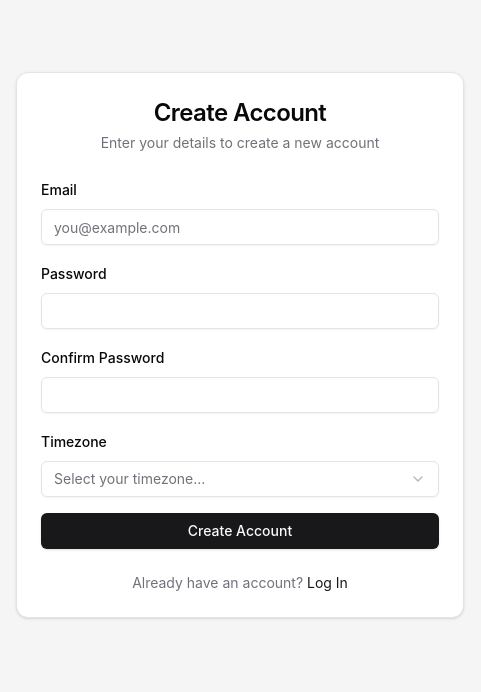
Test: RegisterPage › should show validation error for invalid email format
Type "invalid-email" into the field labelled "Email" at [240, 227], box [41,209,439,245]
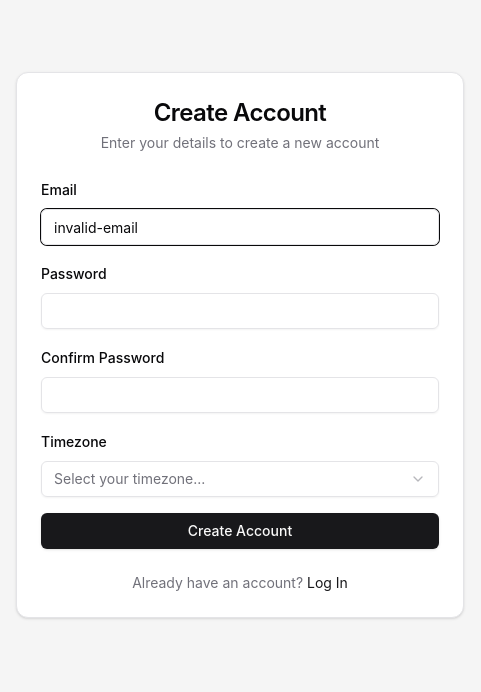
Click the button "Create Account" at [240, 531], box [41,513,439,549]
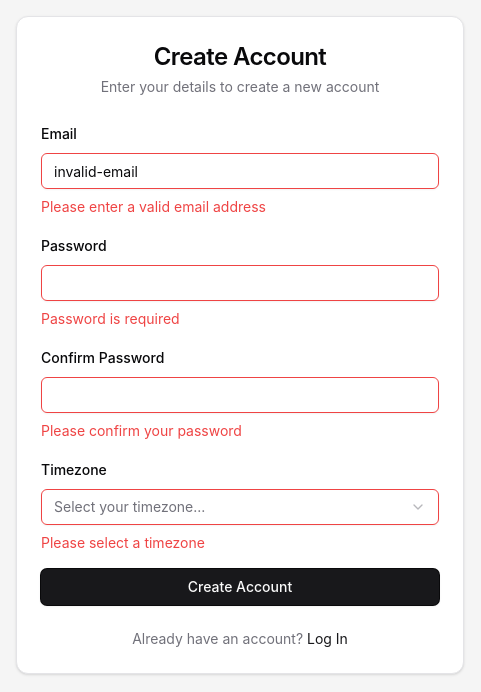
Expected: the text "Please enter a valid email address" is shown, [41,198,266,215]
